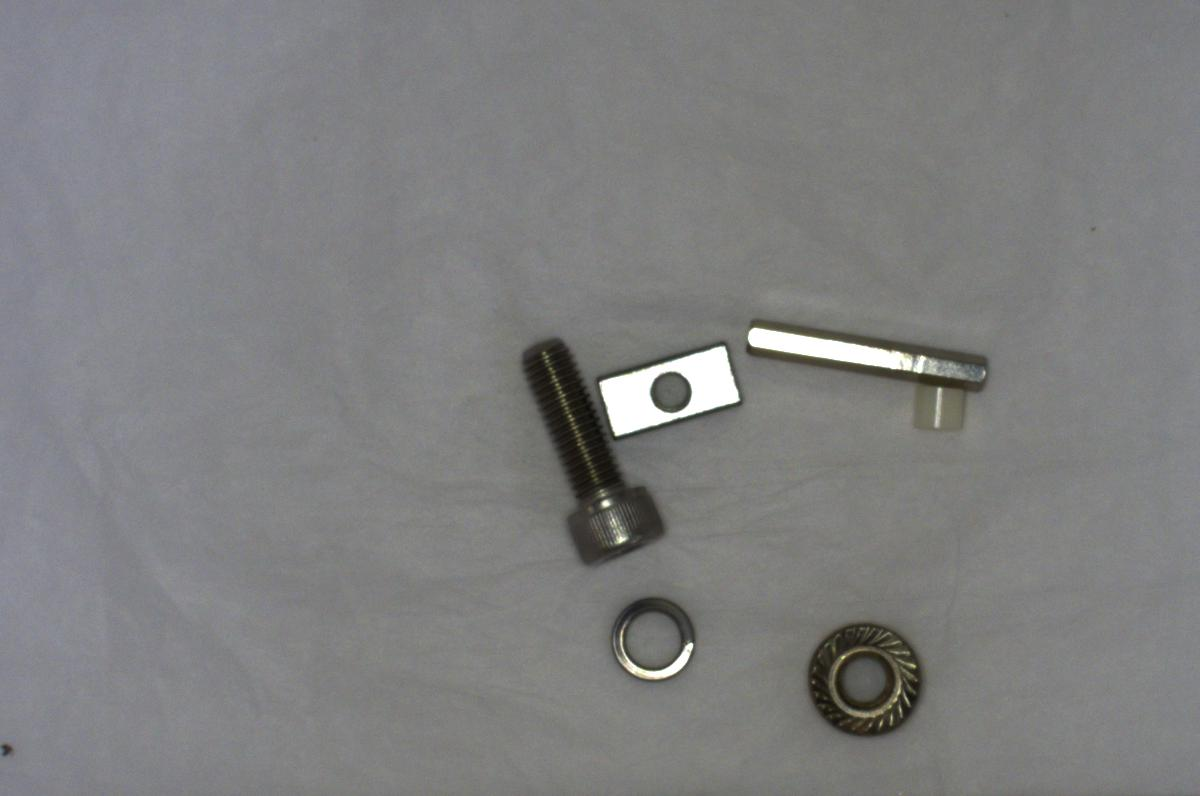Double hexagonal column: (741, 312, 997, 391)
Flange nut: (797, 610, 932, 739)
Hexagon screw: (507, 332, 665, 572)
Plastic cushion pillar: (914, 381, 970, 433)
Rectangular nut: (591, 344, 744, 440)
Spring washer: (601, 586, 701, 685)
